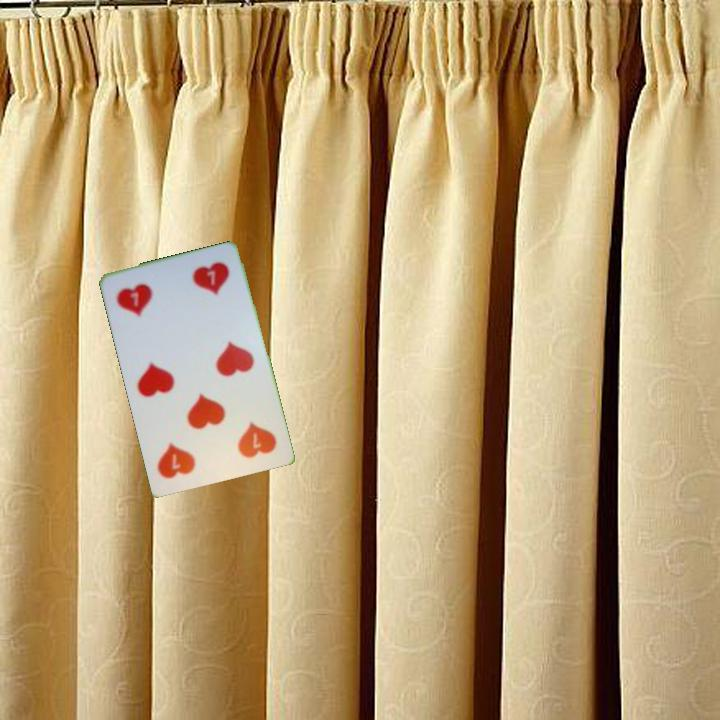h_7.png: (109, 266, 187, 337), (205, 400, 283, 471)
